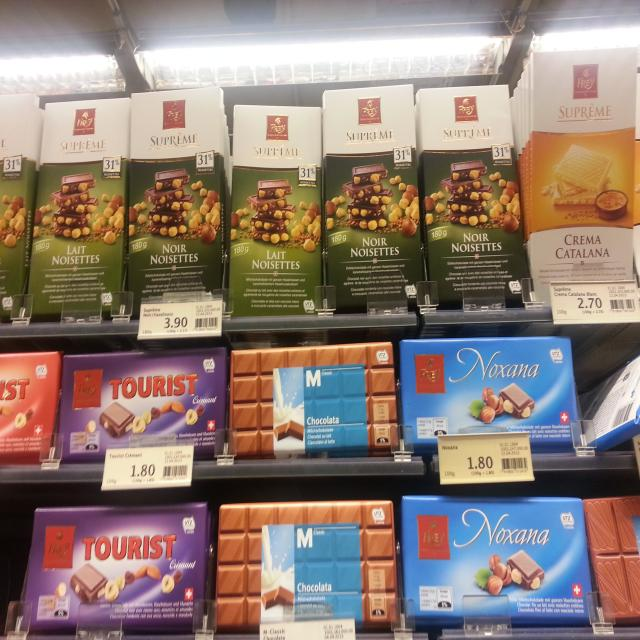chocolate: (401, 491, 592, 621), (535, 44, 638, 282), (25, 496, 209, 625), (415, 88, 524, 304), (24, 96, 132, 313), (219, 496, 398, 620), (319, 91, 420, 310), (129, 90, 223, 318), (402, 331, 584, 446), (230, 101, 323, 317), (232, 348, 398, 456), (67, 349, 227, 456), (0, 91, 43, 323), (0, 351, 62, 462)
